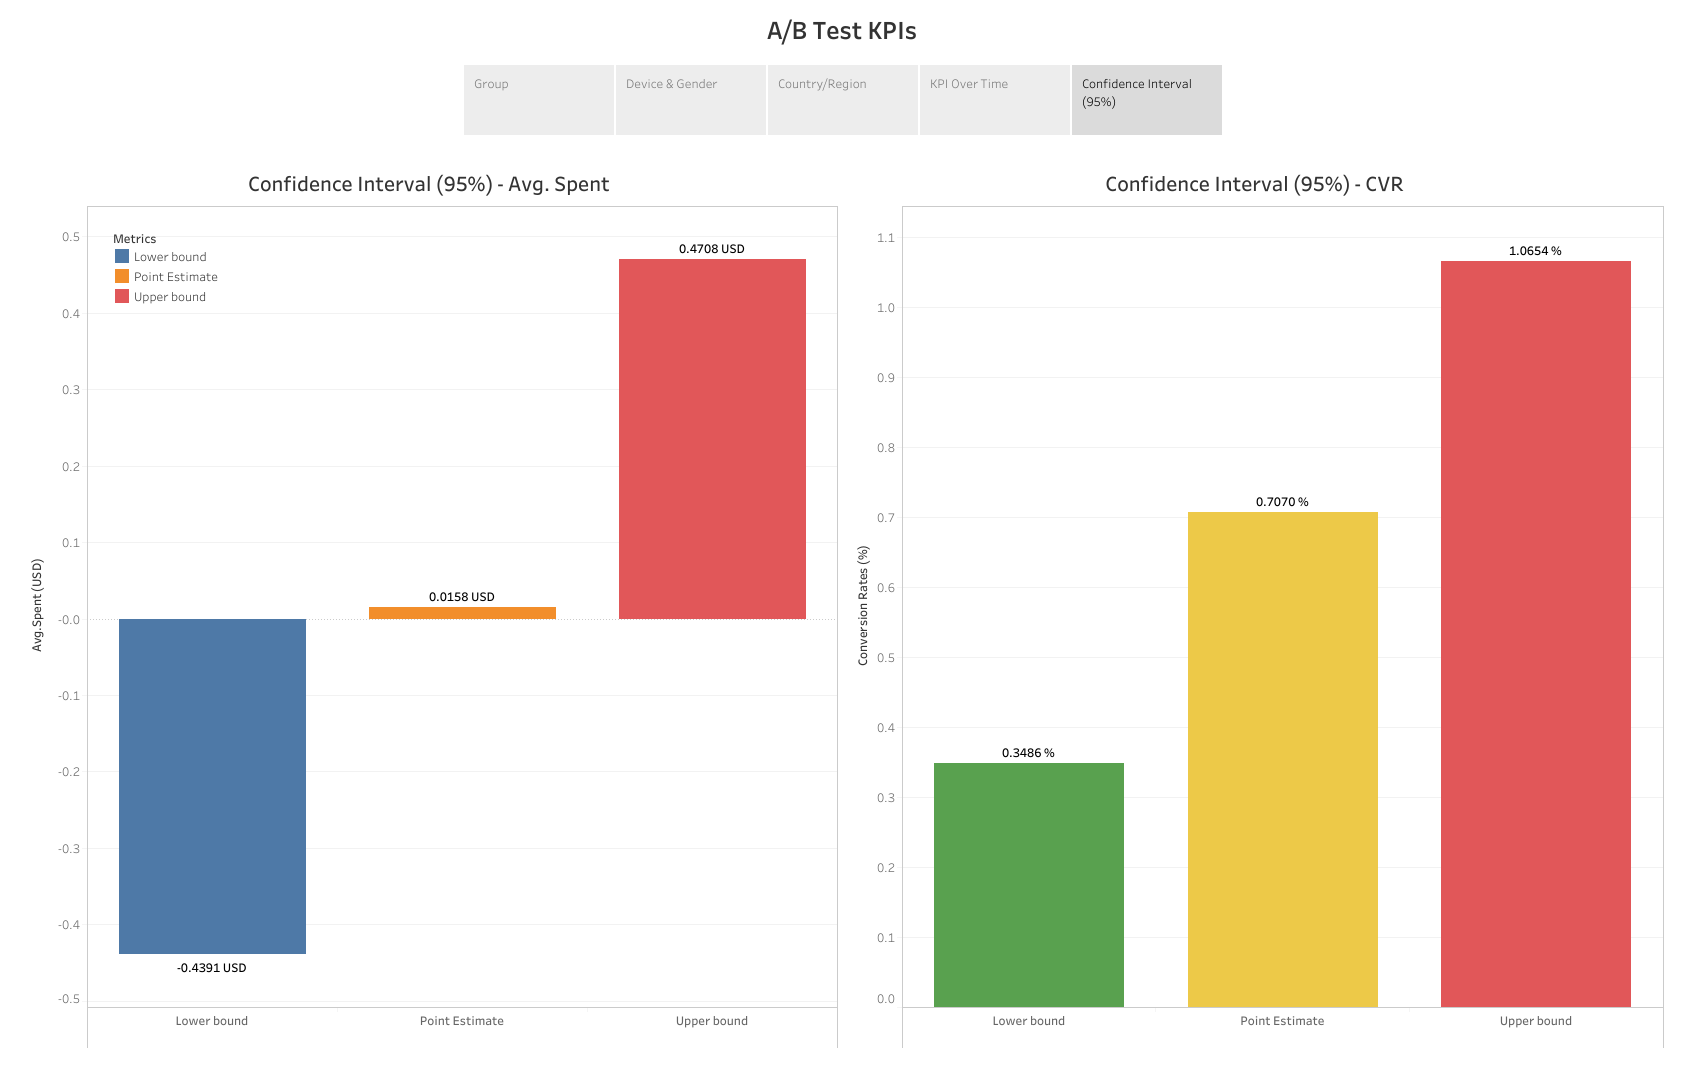

The page's visual inventory and layout, read from the dashboard file:
{"tool":"tableau","page":{"name":"Confidence Interval (95%)","canvas":[1000,1000],"units":"permille","ordinal":0},"visuals":[{"type":"worksheet","title":"Confidence Interval (95%) - Avg. Spent","mark":"Automatic","cols":["Confidence_Intervals"],"box":[4.8,9.4,495.2,981.2]},{"type":"worksheet","title":"Confidence Interval (95%) - CVR","mark":"Automatic","cols":["Confidence_Intervals"],"box":[500,9.4,495.2,981.2]},{"type":"legend","title":"Confidence Interval (95%) - Avg. Spent","param":"[federated.0nq2hzg1apqsb31fzorhn106uglb].[:Measure Names]","box":[62.2,83.4,91.1,105.8]}]}

Visuals, with their boxes on the dashboard's canvas, which has no fixed pixel size, in thousandths of its width and height (x1, y1, x2, y2). These are canvas units, not pixel positions in the 1683x1067 screenshot, which may show the page scaled, cropped or inside an application window:
"Confidence Interval (95%) - Avg. Spent" worksheet: 5,9,500,991
"Confidence Interval (95%) - CVR" worksheet: 500,9,995,991
"Confidence Interval (95%) - Avg. Spent" legend: 62,83,153,189
